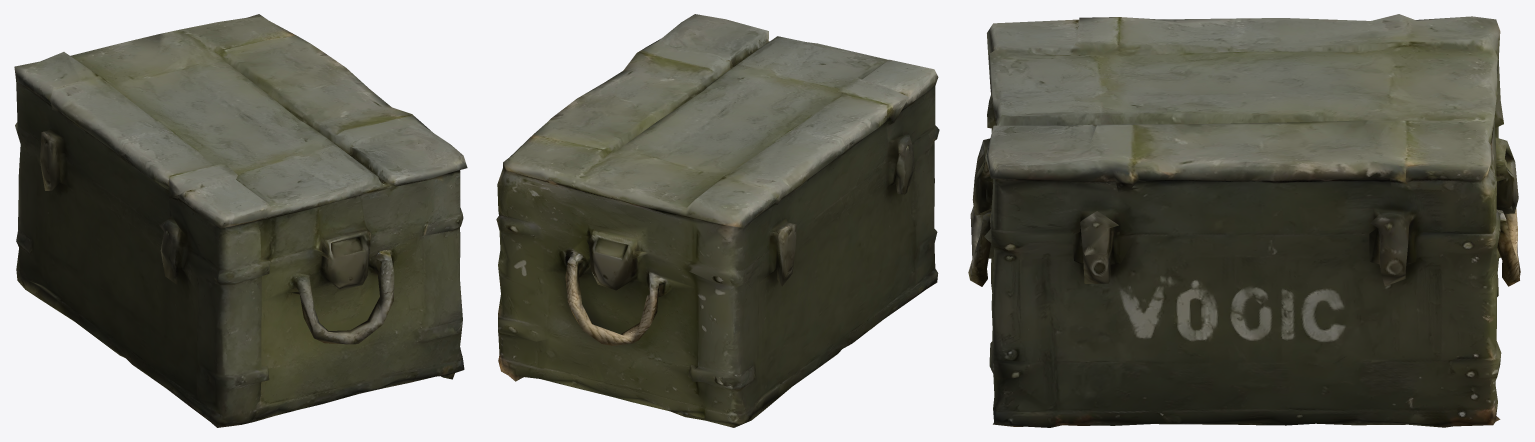
File: ul_army_crate.glb
3 renders of one model, left to right at view 1: azimuth 30°, elevation 25°; view 2: azimuth 150°, elevation 25°; view 3: azimuth 270°, elevation 25°, orthographic. The views are drawn at different scales.
Visible parts, largest first — view 1: tripo_node_a378cf45-fa42-4fe2-9f38-f1a25cebefee; view 2: tripo_node_a378cf45-fa42-4fe2-9f38-f1a25cebefee; view 3: tripo_node_a378cf45-fa42-4fe2-9f38-f1a25cebefee.
Part boxes in pixels (bbox=[...]): tripo_node_a378cf45-fa42-4fe2-9f38-f1a25cebefee: bbox=[14, 14, 467, 427]; tripo_node_a378cf45-fa42-4fe2-9f38-f1a25cebefee: bbox=[496, 14, 939, 427]; tripo_node_a378cf45-fa42-4fe2-9f38-f1a25cebefee: bbox=[968, 14, 1520, 427].
Bounding box in the file's own units: 0.6948 × 0.5515 × 1.
Materials: 1 (1 with a texture image).
